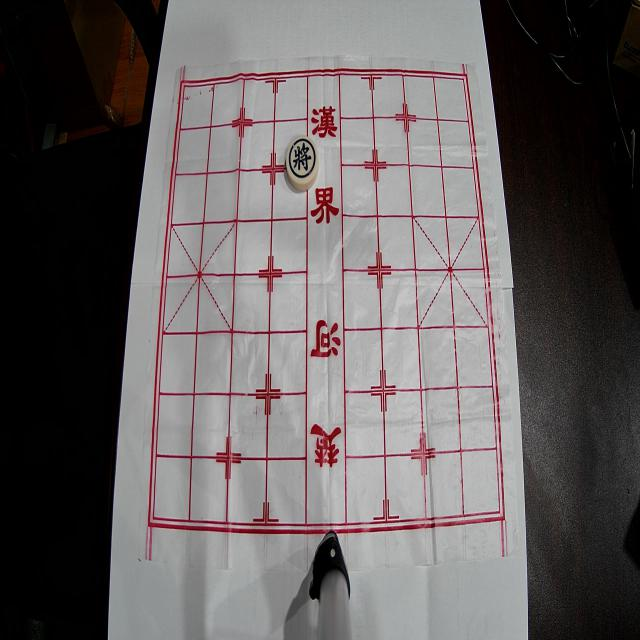black-general: (286, 136, 319, 190)
